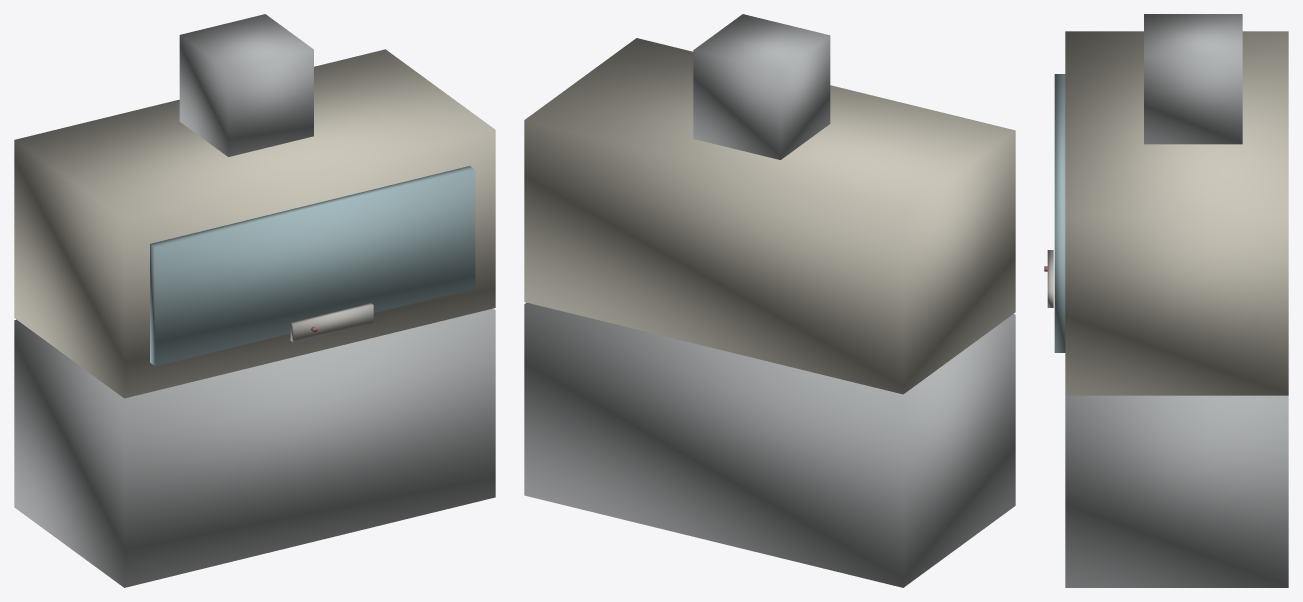
Rendered from fume_hood__squat.glb.
3 renders of one model, left to right at view 1: azimuth 30°, elevation 25°; view 2: azimuth 150°, elevation 25°; view 3: azimuth 270°, elevation 25°, orthographic. The views are drawn at different scales.
Parts seen in each view (by area): view 1: world; view 2: world; view 3: world.
Boxes of the visible parts, x1,y1,x2,y2 form: world: (14,14,495,587); world: (524,14,1015,587); world: (1044,14,1288,587).
Bounding box in the file's own units: 1.43 × 1.67 × 0.803.
